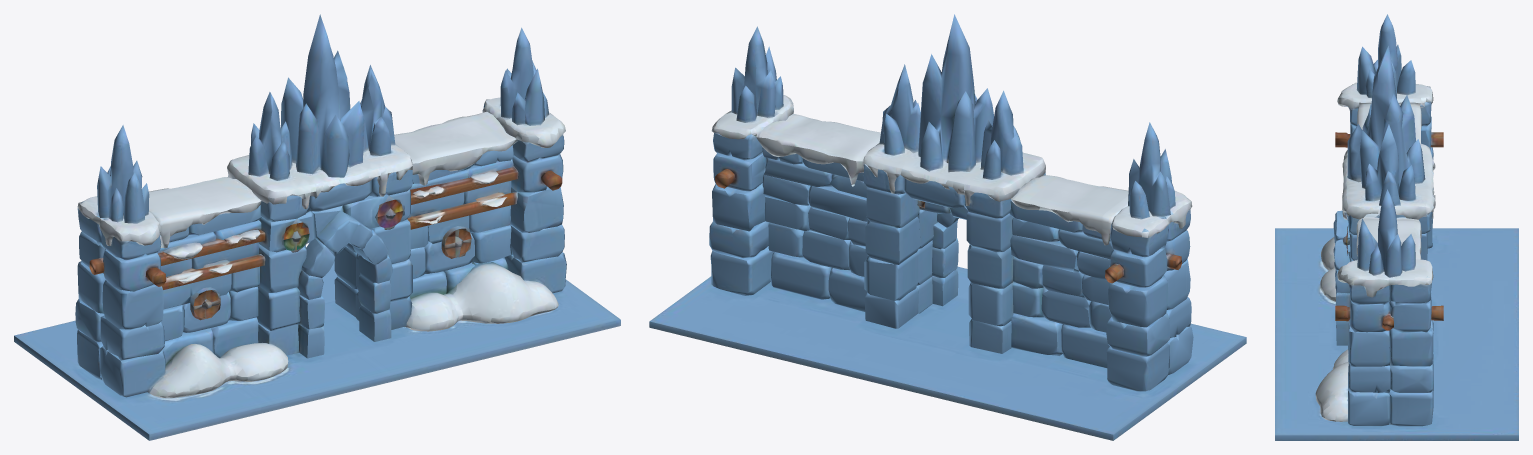
Rendered from tundra_palacio.glb.
3 views of the same model, side by side, from view 1: azimuth 30°, elevation 25°; view 2: azimuth 150°, elevation 25°; view 3: azimuth 270°, elevation 25° (orthographic). The views are drawn at different scales.
Visible parts, largest first — view 1: tripo_node_59e854ad-807e-4916-9917-3e998ca833ff; view 2: tripo_node_59e854ad-807e-4916-9917-3e998ca833ff; view 3: tripo_node_59e854ad-807e-4916-9917-3e998ca833ff.
Boxes of the visible parts, box(x1,y1,x2,y2) form: tripo_node_59e854ad-807e-4916-9917-3e998ca833ff: box(14, 14, 620, 440); tripo_node_59e854ad-807e-4916-9917-3e998ca833ff: box(649, 14, 1246, 440); tripo_node_59e854ad-807e-4916-9917-3e998ca833ff: box(1275, 14, 1518, 440).
Size of the model in its own units: 0.9973 by 0.6544 by 0.4962.
1 material, 1 textured.
